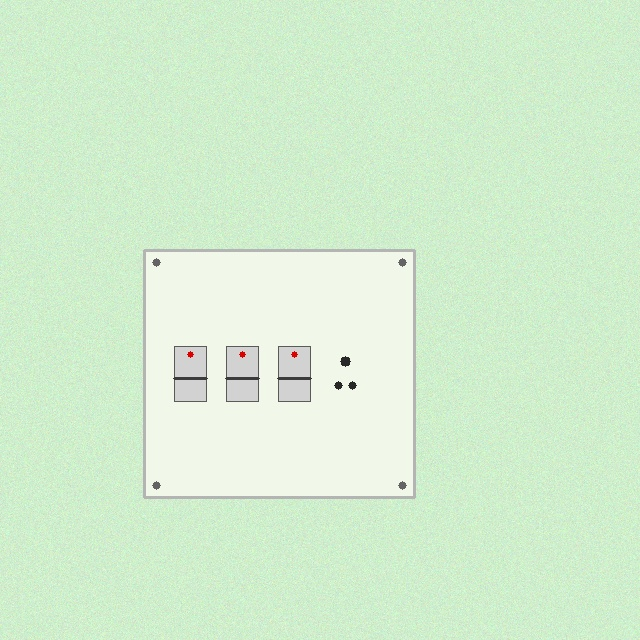switchboard: (144, 250, 414, 497)
